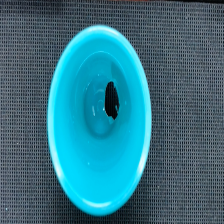hole: (104, 81, 119, 118)
